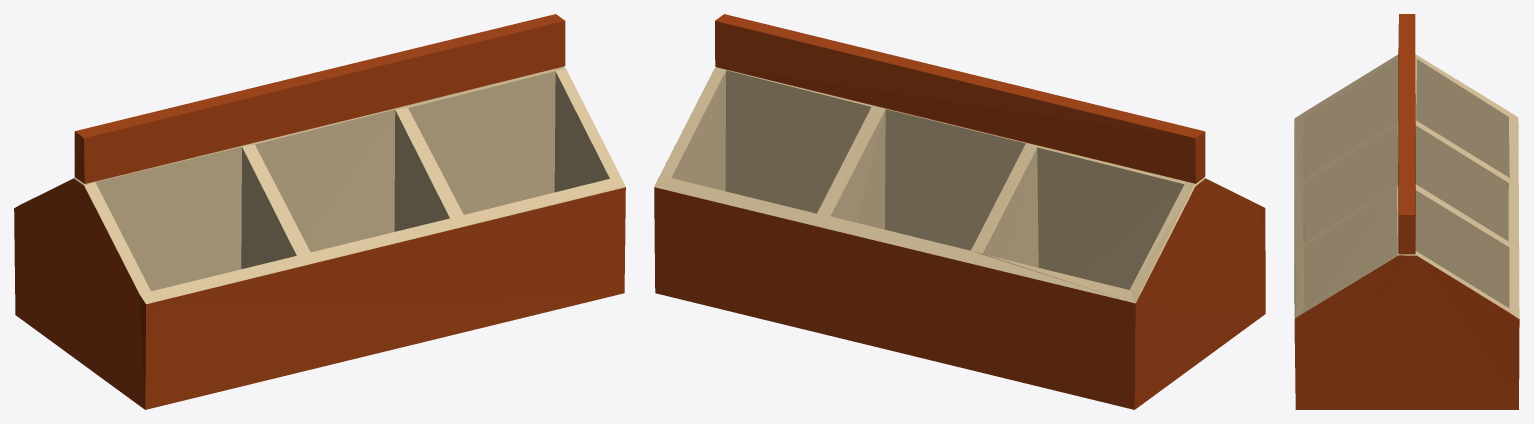
The model's file is ss-produce.lod2.glb.
3 views of the same model, side by side, from view 1: azimuth 30°, elevation 25°; view 2: azimuth 150°, elevation 25°; view 3: azimuth 270°, elevation 25° (orthographic). The views are drawn at different scales.
Parts seen in each view (by area): view 1: Object_111; view 2: Object_111; view 3: Object_111.
Boxes of the visible parts, x1,y1,x2,y2 form: Object_111: (14, 14, 625, 409); Object_111: (654, 14, 1265, 409); Object_111: (1294, 14, 1519, 409).
Bounding box in the file's own units: 2.4 × 1.09 × 1.14.
